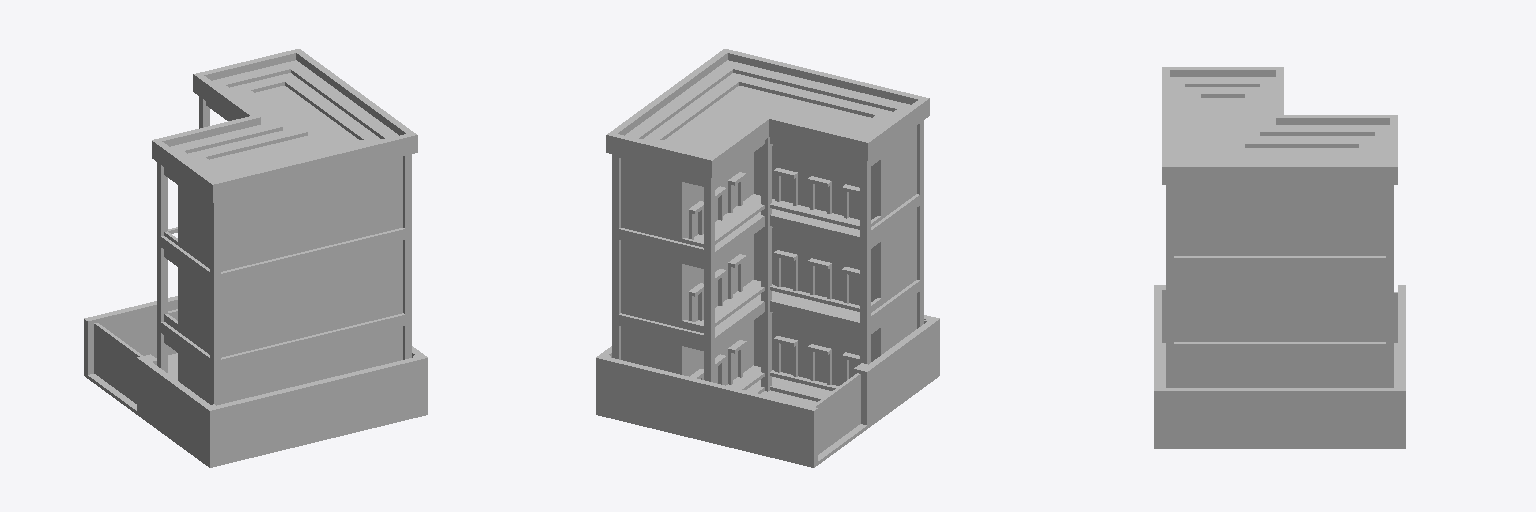
File: school.obj
3 views of the same model, side by side, from view 1: azimuth 30°, elevation 25°; view 2: azimuth 150°, elevation 25°; view 3: azimuth 270°, elevation 25° (orthographic).
Parts seen in each view (by area): view 1: object 1; view 2: object 1; view 3: object 1.
Boxes of the visible parts, x1=… form: object 1: x1=84, y1=49, x2=427, y2=467; object 1: x1=596, y1=49, x2=939, y2=467; object 1: x1=1154, y1=67, x2=1405, y2=448.
Size of the model in its own units: 6.4 by 7.8 by 6.4.